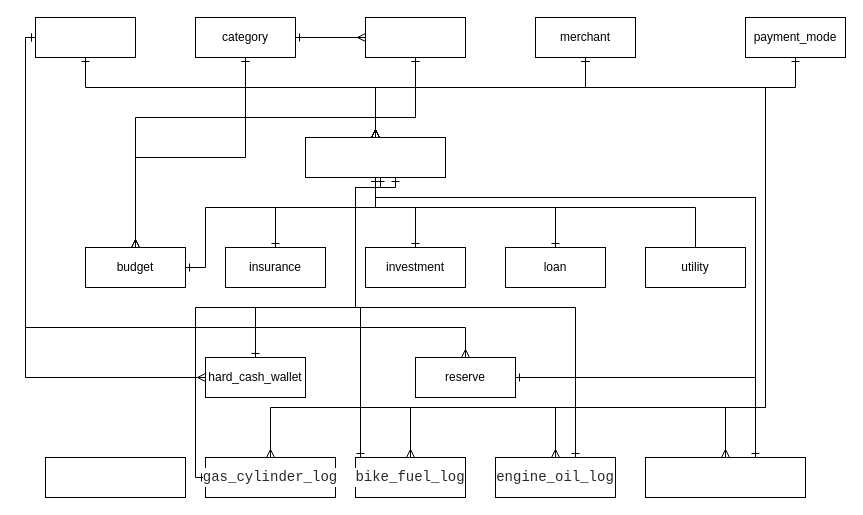
Some shapes in this 863 by 515 pixel diagram are drawn without their labels. The shapes that lost their labels are listed below. From the top down, each one's box as (x1, y1, x2, y2) in pixels, then its label:
(34, 16, 136, 58): account
(364, 16, 466, 58): sub_category
(304, 136, 446, 178): financial_transaction
(44, 456, 186, 498): milk_purchase_log
(644, 456, 806, 498): bike_maintenance_log
